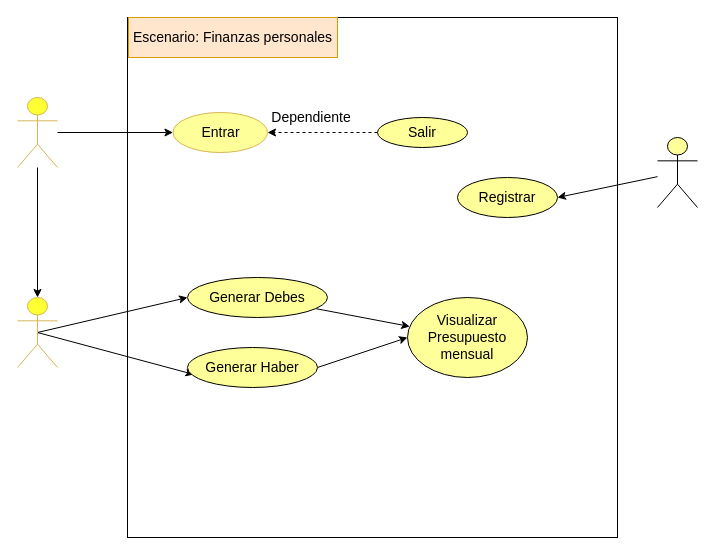
Image size: 721x555. Some labels were removed from this diagram. Here are the shapes that lost their labels. From the top down, the box of each, then its label:
(16, 96, 58, 168): Usuario
(656, 136, 698, 208): Visitante
(16, 296, 58, 368): Cliente
